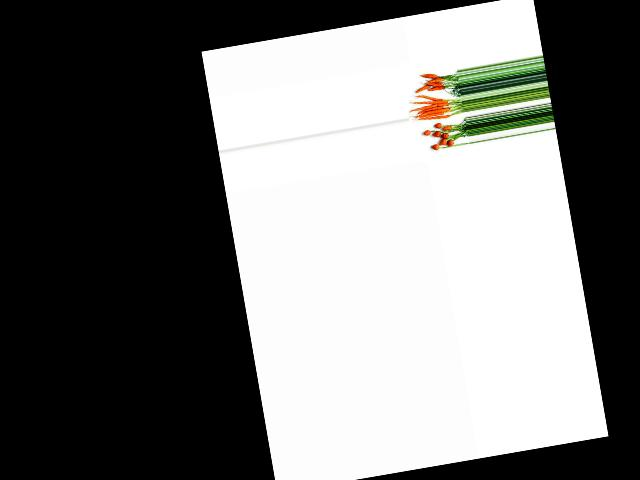carrot: (428, 141, 439, 151)
